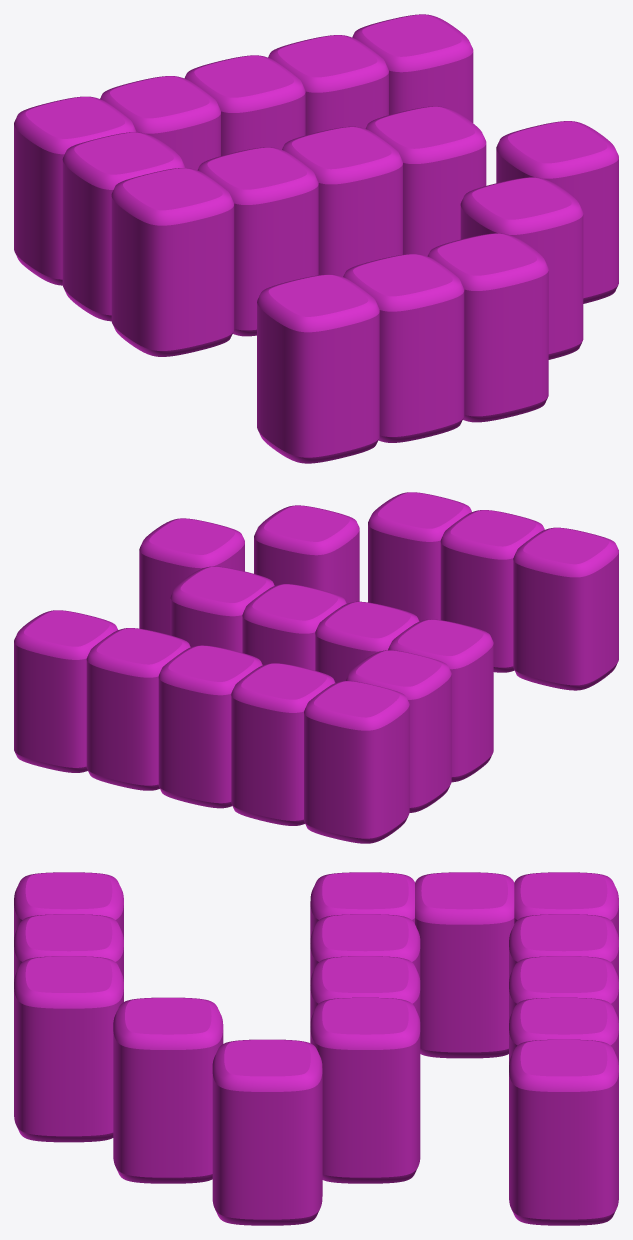
The model's file is Number_5.fbx.
The picture shows the model from 3 angles, top to bottom: view 1: azimuth 30°, elevation 25°; view 2: azimuth 150°, elevation 25°; view 3: azimuth 270°, elevation 25°; orthographic projection. The views are drawn at different scales.
Parts seen in each view (by area): view 1: Number_5; view 2: Number_5; view 3: Number_5.
Part boxes in pixels (<box>): Number_5: <box>14,14,618,463</box>; Number_5: <box>14,492,618,843</box>; Number_5: <box>14,872,618,1225</box>.
Bounding box in the file's own units: 0.4311 × 0.14 × 0.5157.
